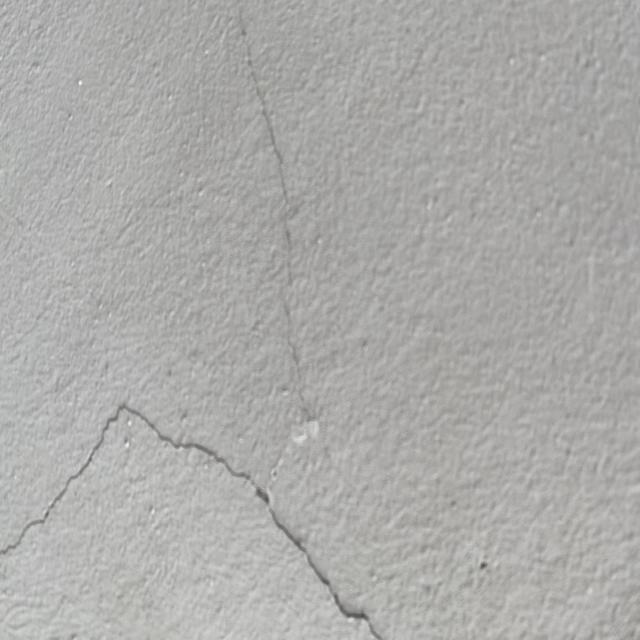SurfaceCrack: (0, 387, 428, 639)
